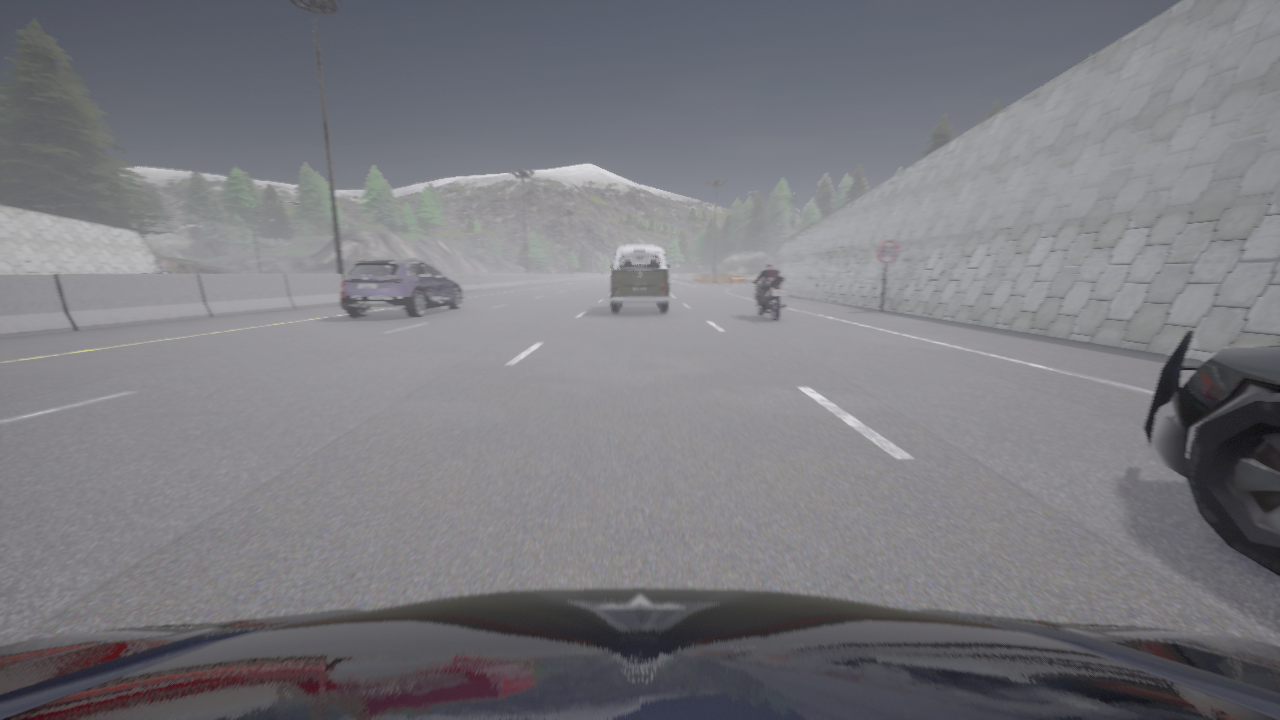cyclist: (0, 588, 1279, 719), (1143, 329, 1279, 576), (341, 257, 463, 317), (610, 245, 669, 312), (749, 274, 787, 321)
